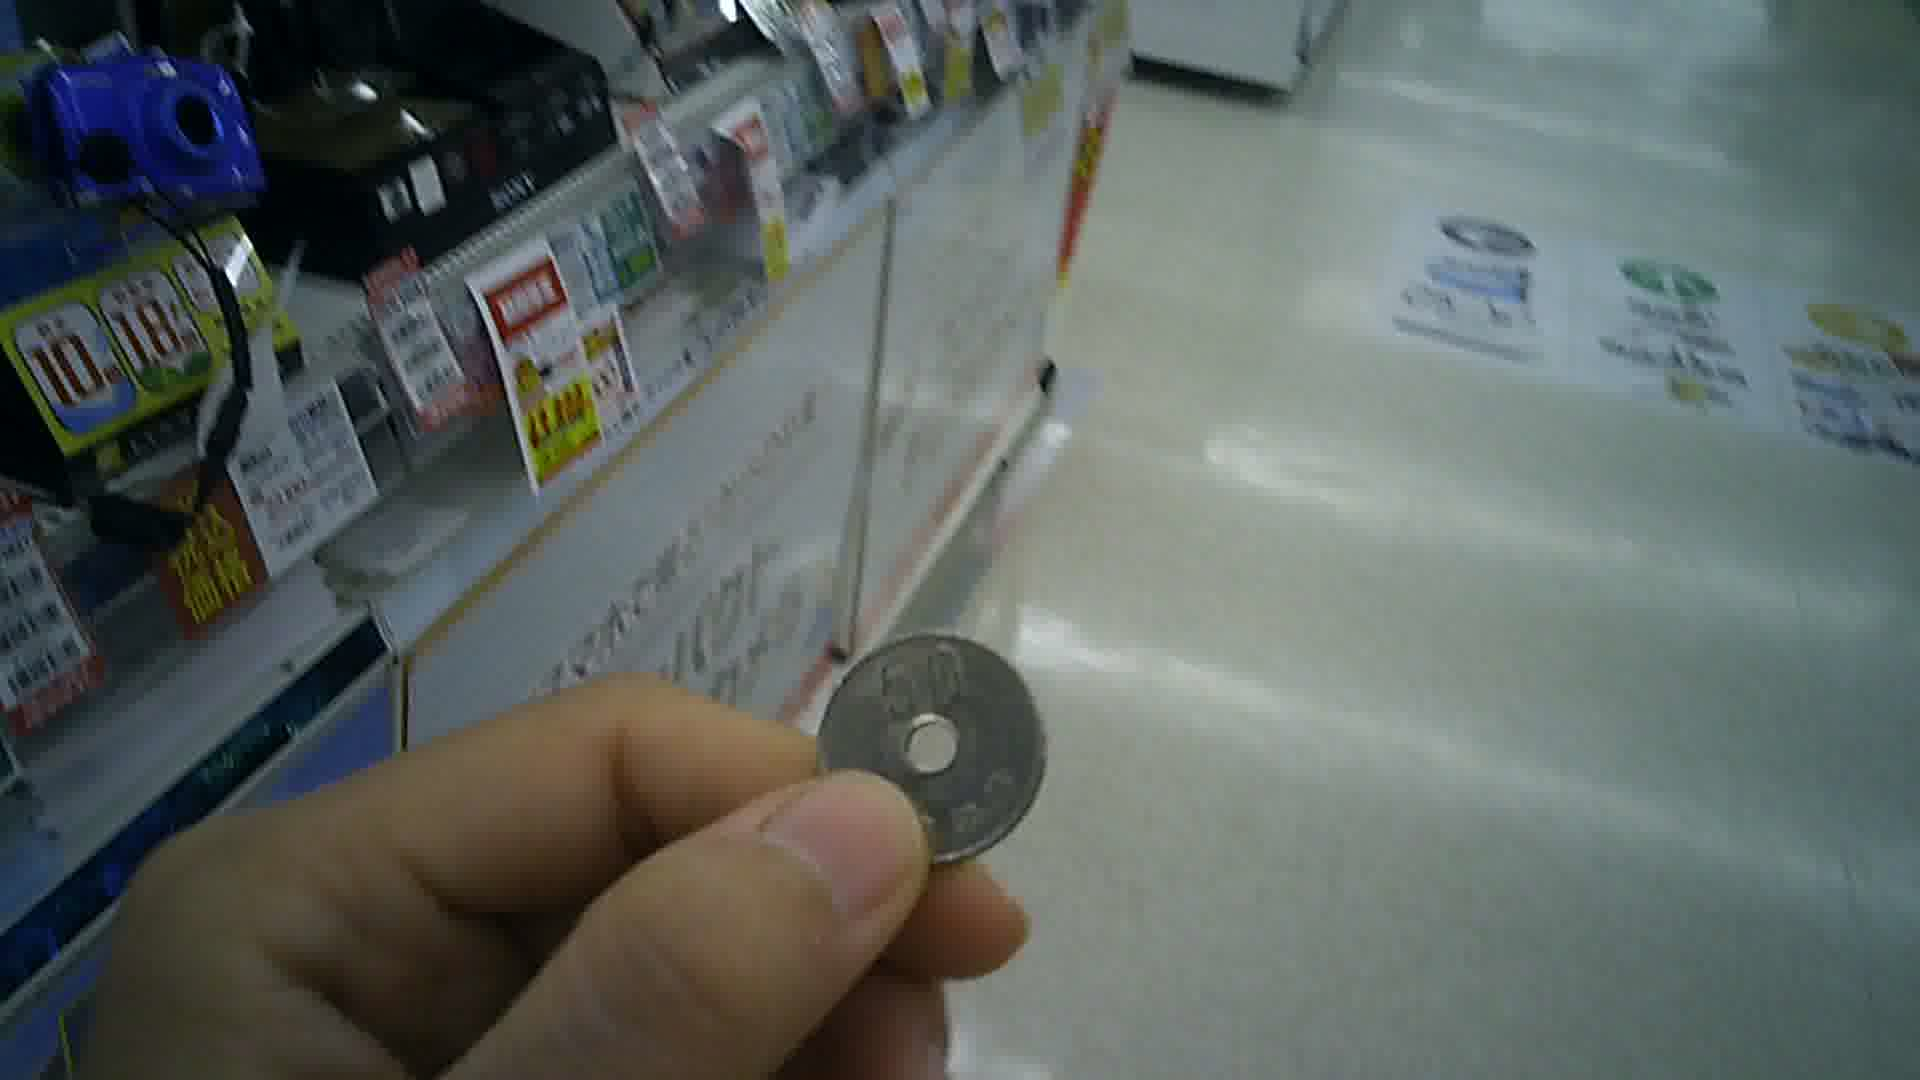50 Yen: (808, 630, 1051, 873)
